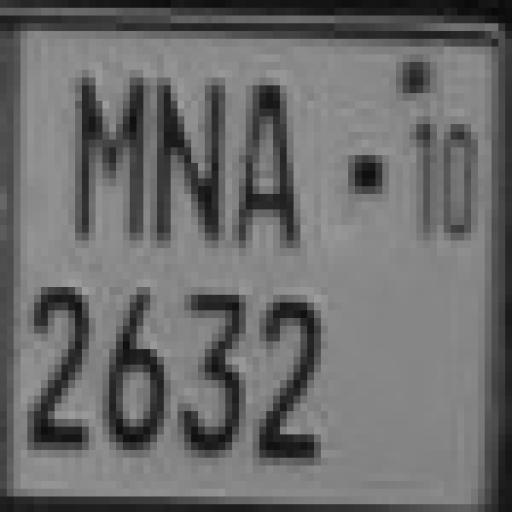2: (254, 282, 332, 464), (27, 276, 96, 453)
3: (178, 269, 248, 468)
6: (112, 279, 167, 448)
A: (234, 65, 300, 258)
M: (68, 58, 147, 251)
N: (149, 76, 232, 258)
